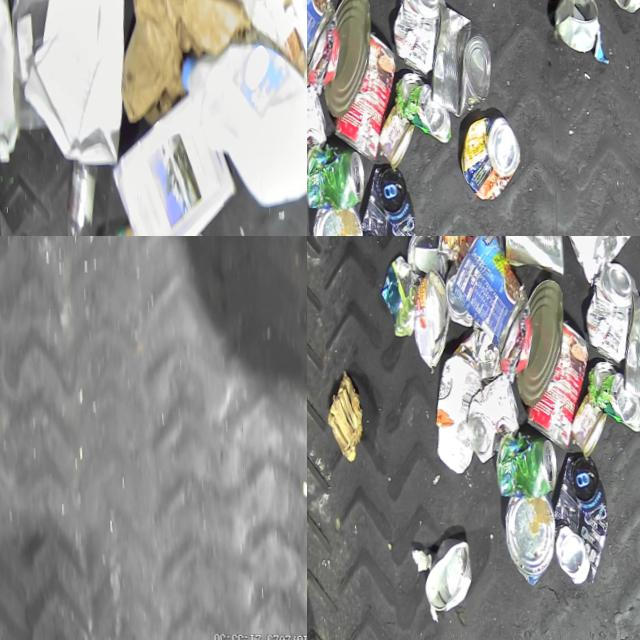can: (323, 29, 399, 159), (515, 318, 591, 448), (446, 236, 531, 352), (541, 454, 607, 584), (421, 1, 492, 116), (506, 277, 566, 404), (314, 0, 373, 115), (578, 260, 639, 362), (453, 114, 519, 200), (460, 371, 519, 463), (494, 494, 553, 586), (349, 165, 414, 236), (407, 266, 451, 369), (386, 0, 447, 73), (490, 431, 556, 498), (390, 70, 449, 142), (414, 538, 468, 616), (582, 359, 640, 431), (307, 142, 363, 209), (612, 290, 640, 405), (371, 102, 414, 166), (563, 392, 606, 456), (499, 236, 562, 276), (548, 0, 599, 49), (441, 262, 471, 327), (403, 236, 446, 280), (307, 82, 327, 174), (307, 205, 361, 236), (433, 236, 504, 259)
milk_jug: (170, 39, 307, 208), (0, 0, 16, 164)
